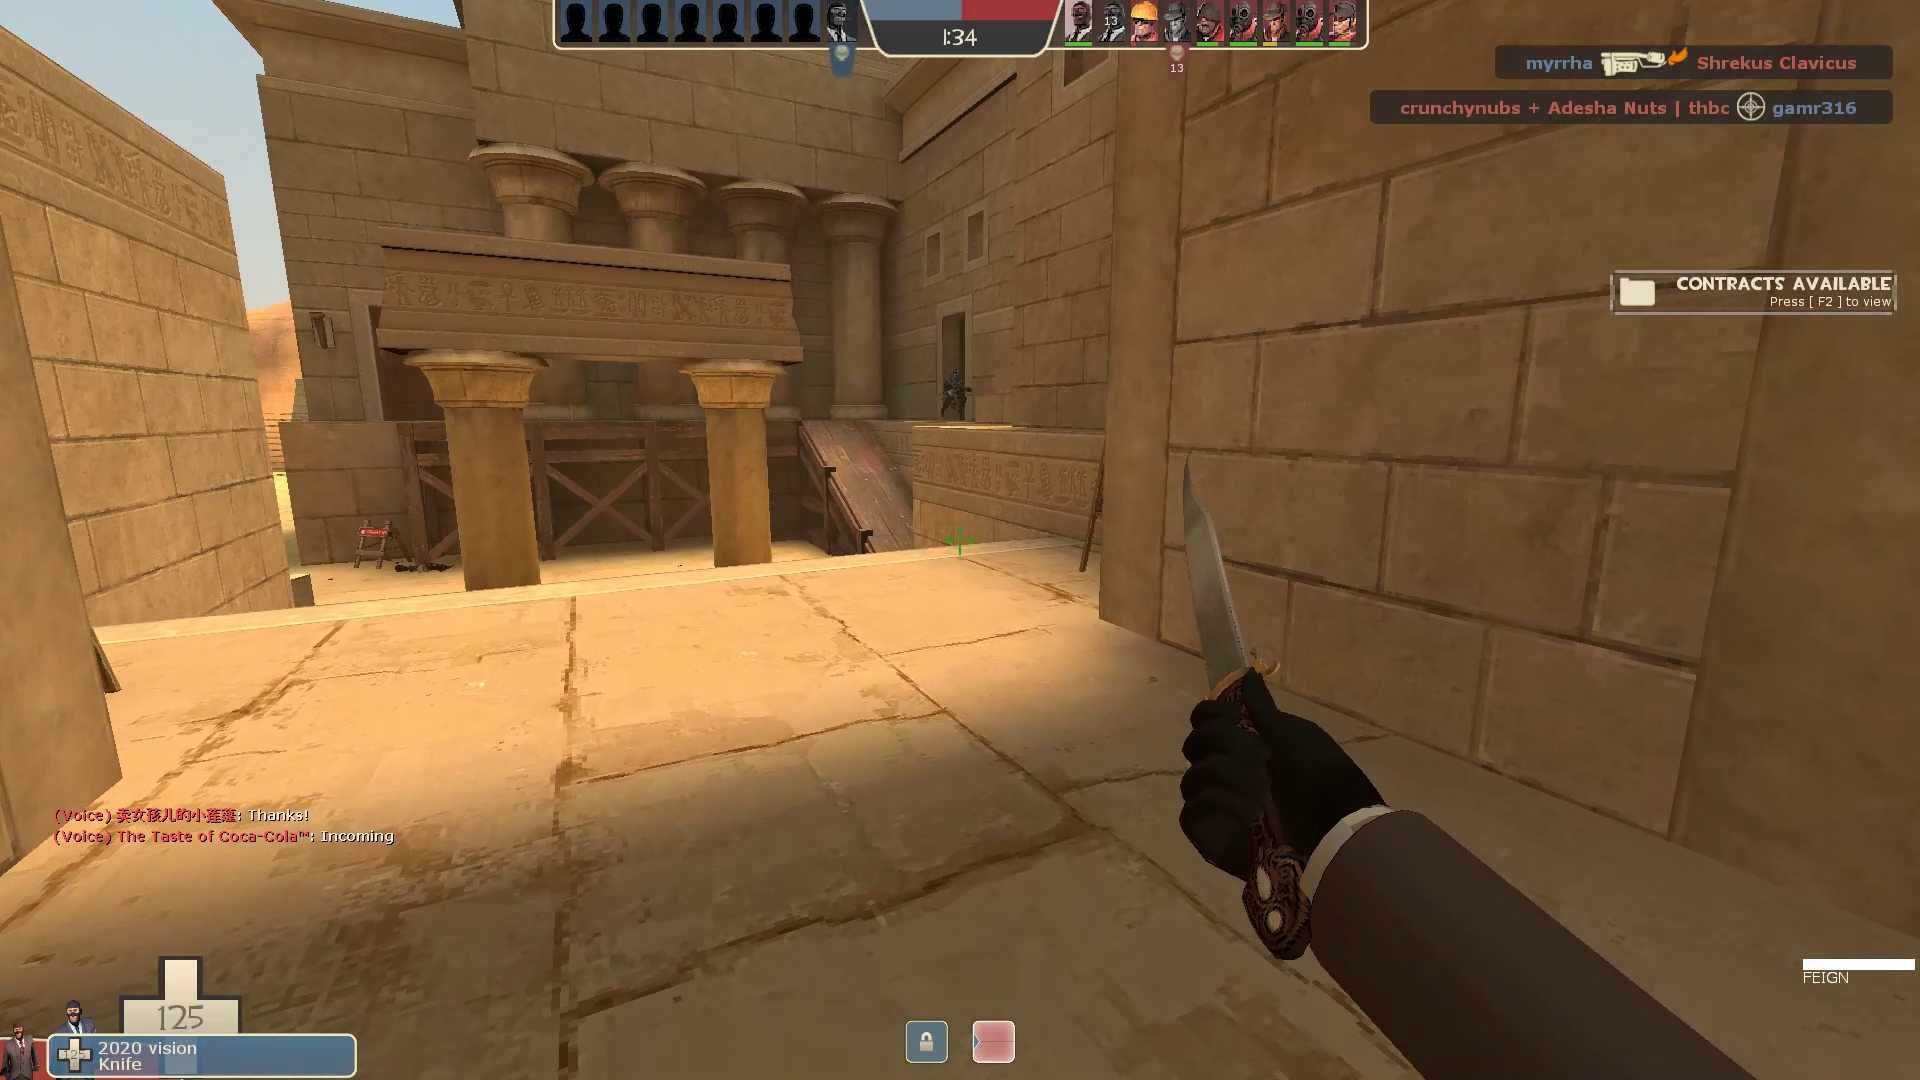blu_pyro: (934, 364, 976, 421)
